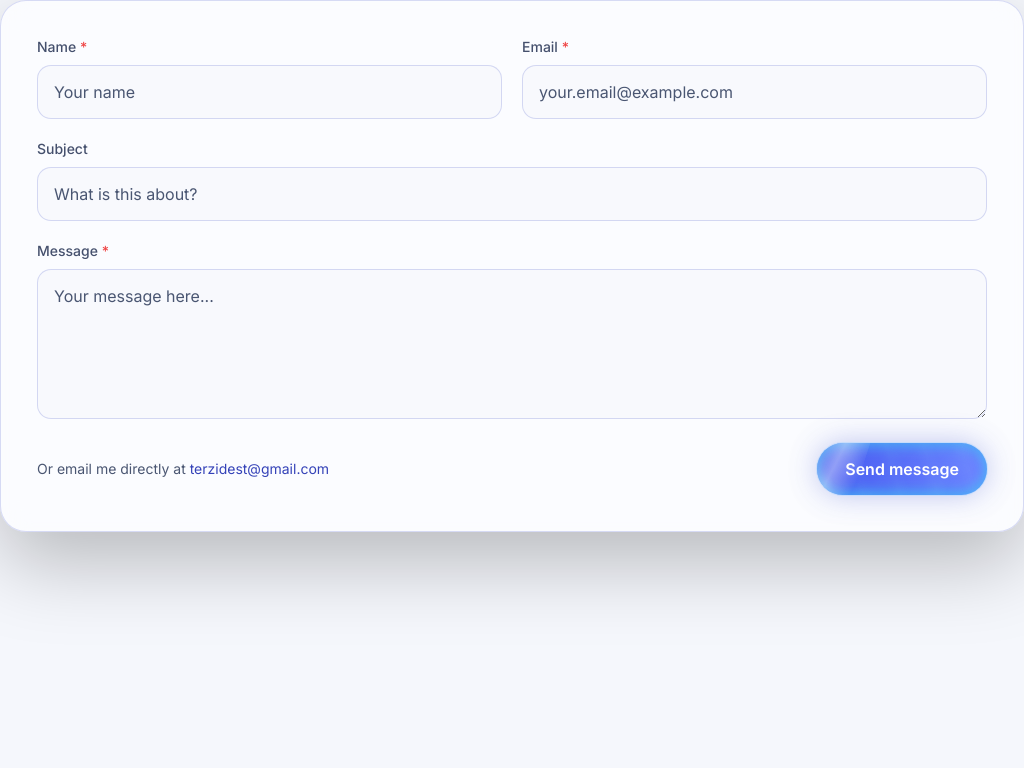
ContactForm › shows the direct-email fallback after a network error
Step 1. Type "Triantaphilos" into the field labelled "Name *" → (270, 92), box [37,65,502,119]
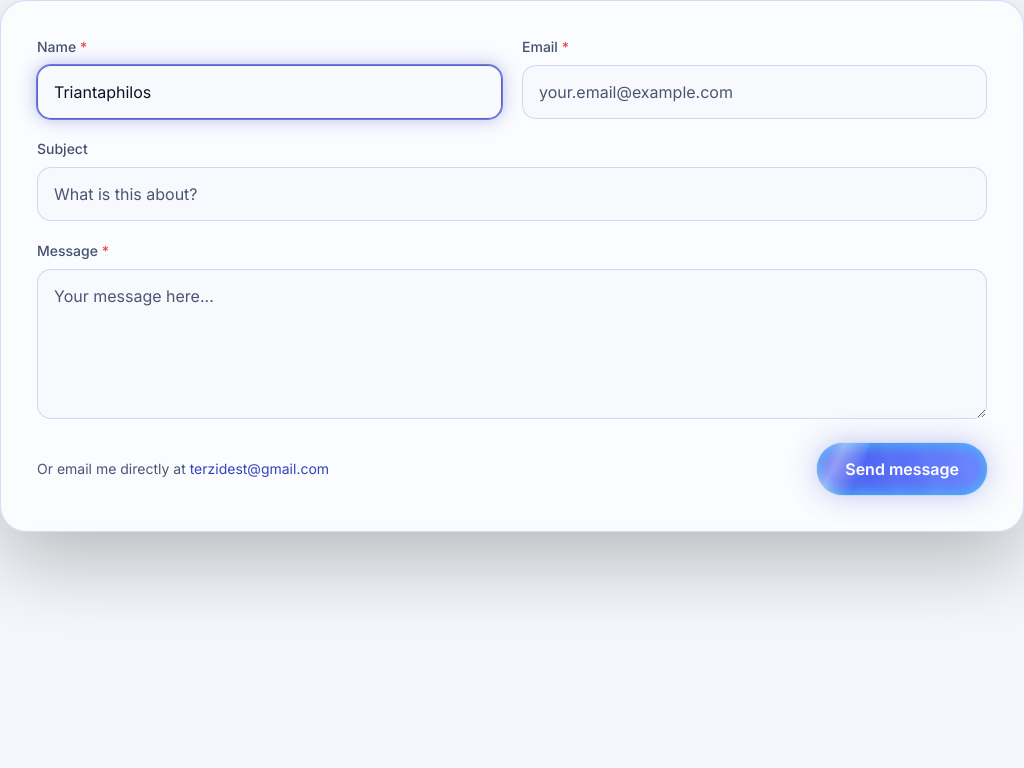
Step 2. Type "triantaphilos@example.com" into the field labelled "Email *" → (754, 92), box [522,65,987,119]
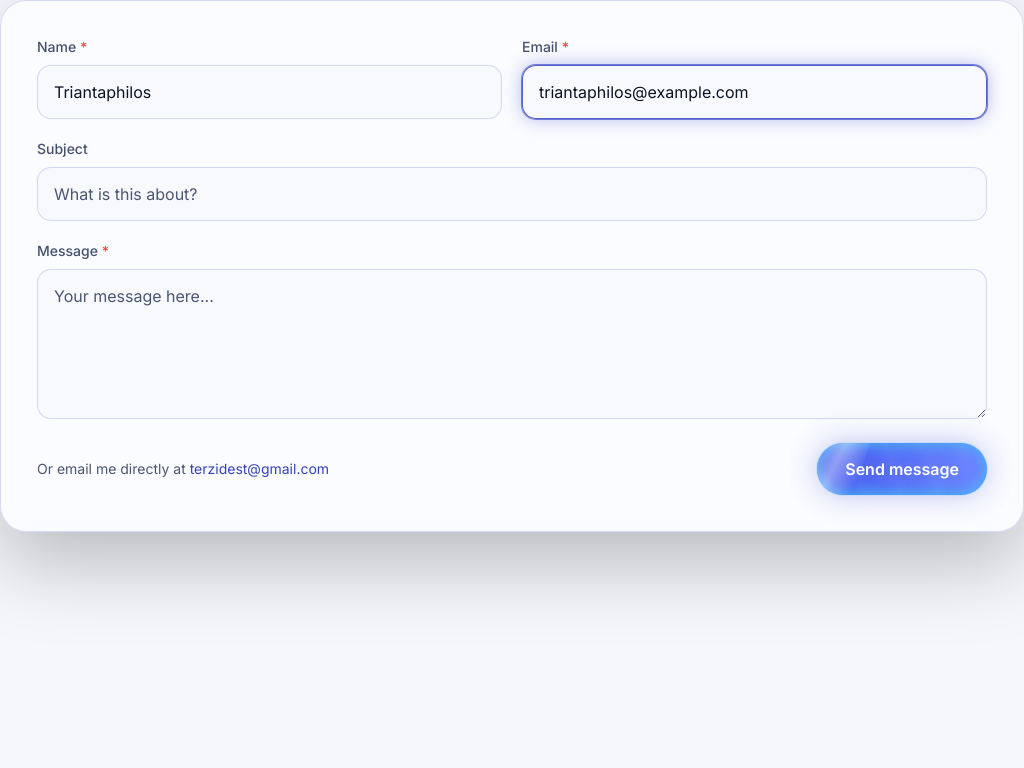
Step 3. Type "A sufficiently long message." into the text box labelled "Message *" → (512, 344), box [37,269,987,419]
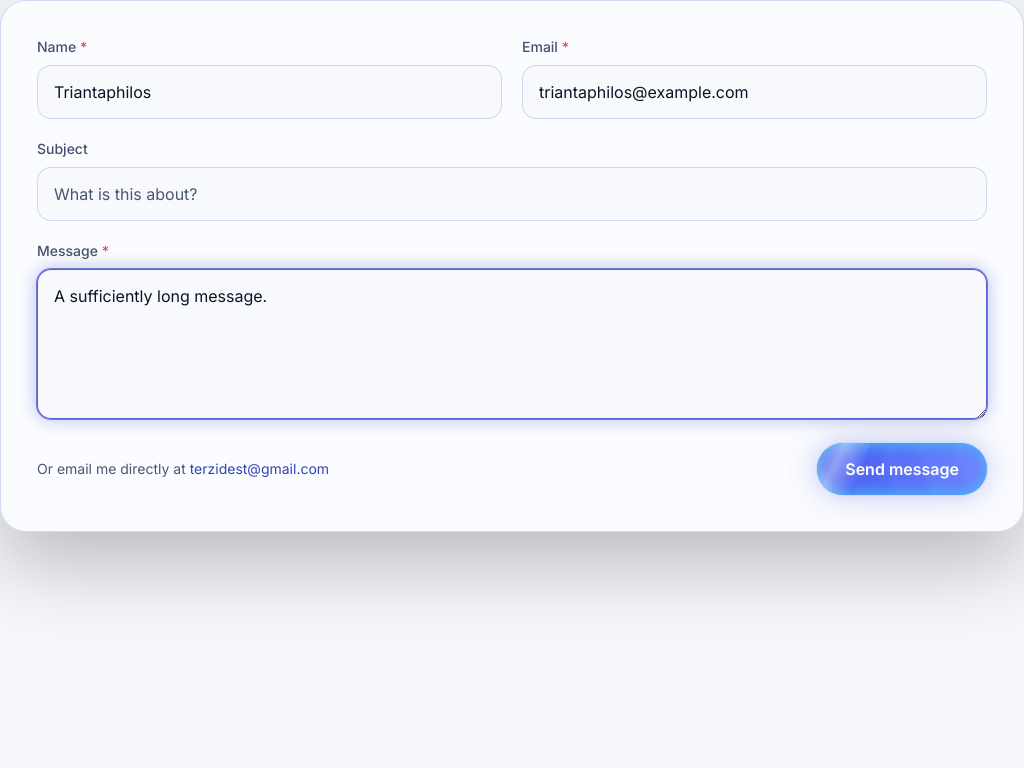
Step 4. Click the button "Send message" → click(902, 469), box [817,443,987,495]
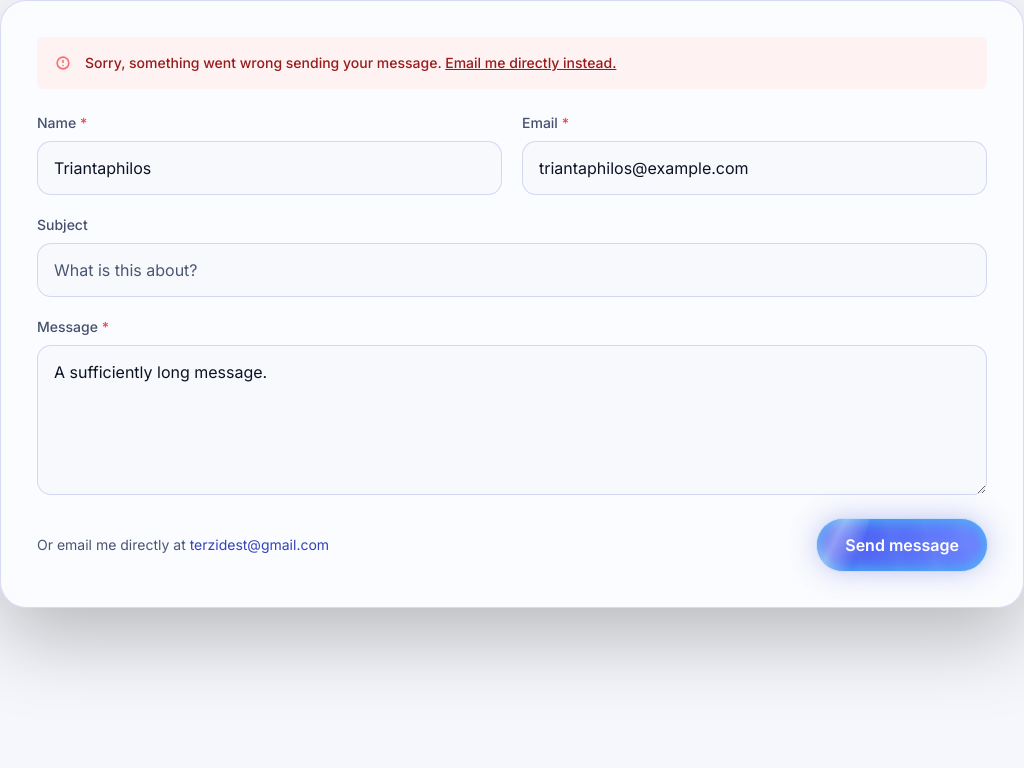
Now the message shows "something went wrong", box [85,54,442,71]
